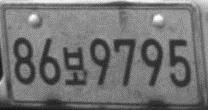5: (168, 38, 191, 87)
6: (38, 37, 60, 86)
7: (112, 37, 137, 87)
8: (12, 36, 36, 85)
9: (140, 37, 163, 87), (89, 38, 110, 85)
보: (62, 46, 87, 85)
